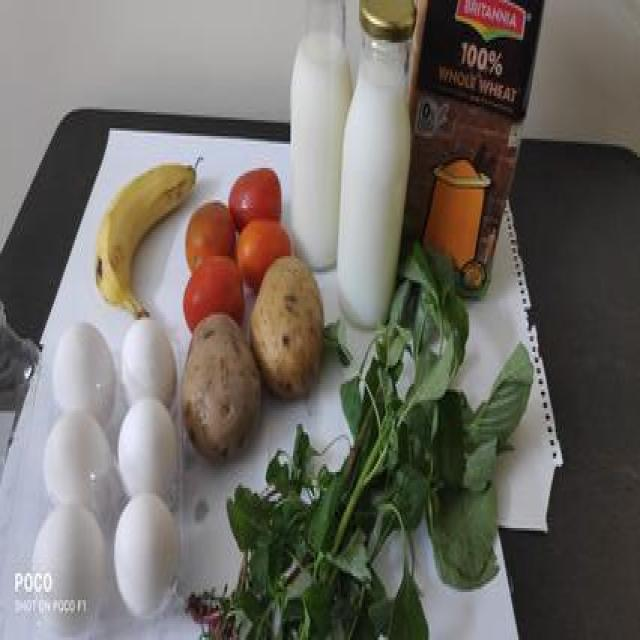Fresh_Spinach: (205, 279, 548, 640)
Fresh_tomato: (188, 164, 290, 288)
